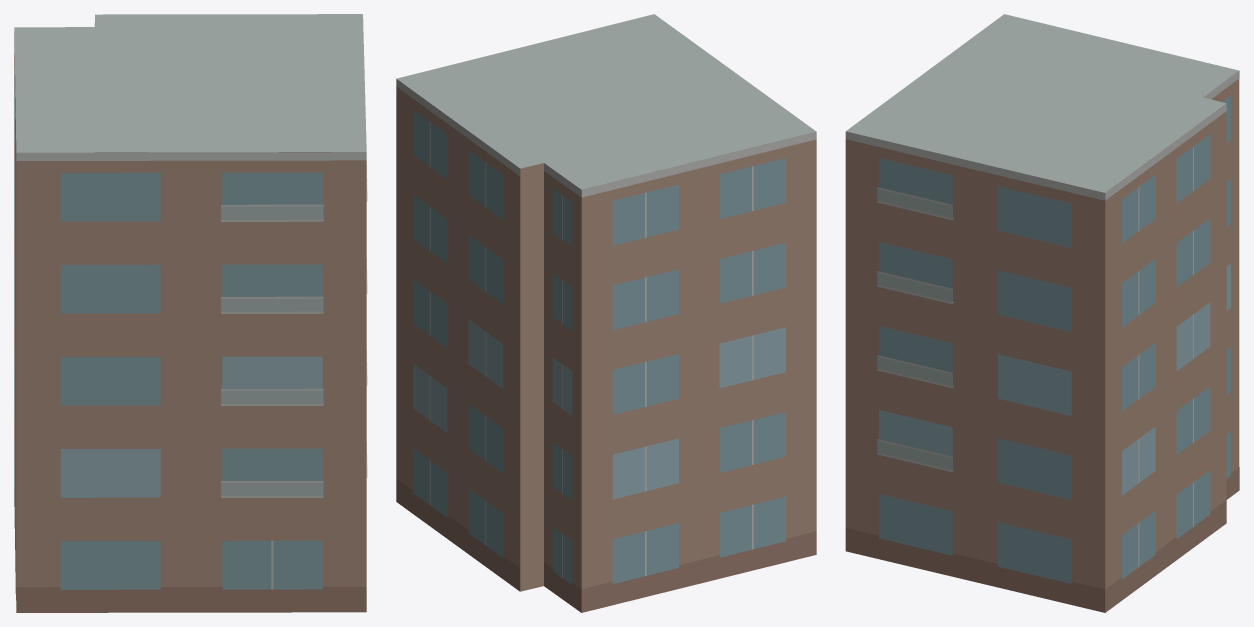
The model's file is survey-upis-32922066.glb.
3 renders of one model, left to right at view 1: azimuth 30°, elevation 25°; view 2: azimuth 150°, elevation 25°; view 3: azimuth 270°, elevation 25°, orthographic. The views are drawn at different scales.
Visible parts, largest first — view 1: survey-upis-32922066.tmp; view 2: survey-upis-32922066.tmp; view 3: survey-upis-32922066.tmp.
Part boxes in pixels (left/top/right/bottom): survey-upis-32922066.tmp: left=14, top=14, right=367, bottom=612; survey-upis-32922066.tmp: left=396, top=14, right=816, bottom=612; survey-upis-32922066.tmp: left=845, top=14, right=1239, bottom=612.
Size of the model in its own units: 12.12 by 13.25 by 11.27.
